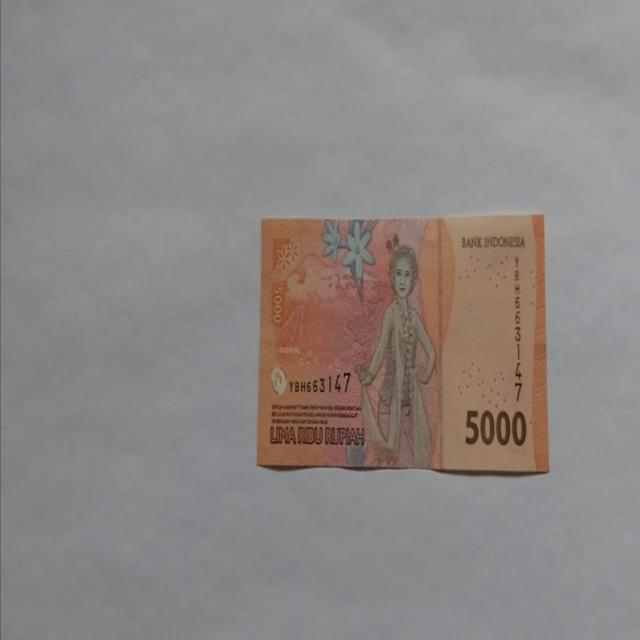lima ribu rupiah: (256, 212, 549, 474), (353, 244, 437, 468)
